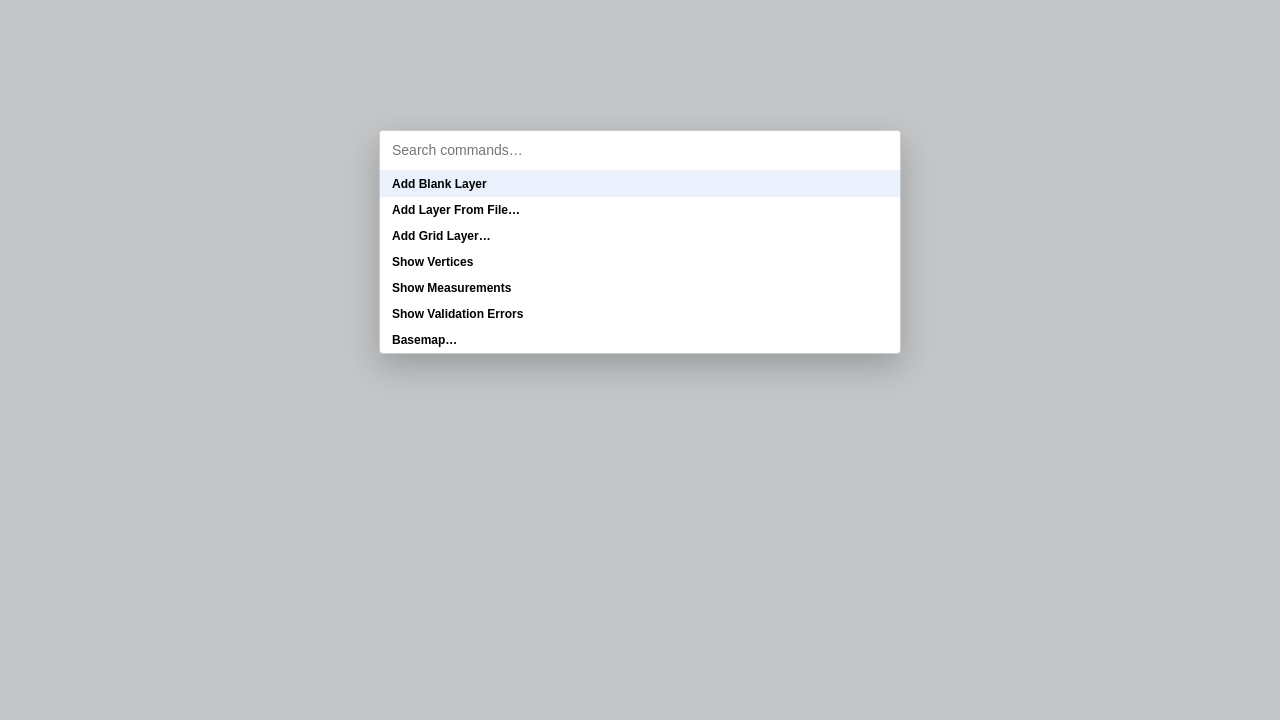
Test: the command palette › says why nothing matched rather than showing an empty box
Type "dissolve" into the dropdown labelled "Search commands" at (640, 151), box [380,131,900,171]
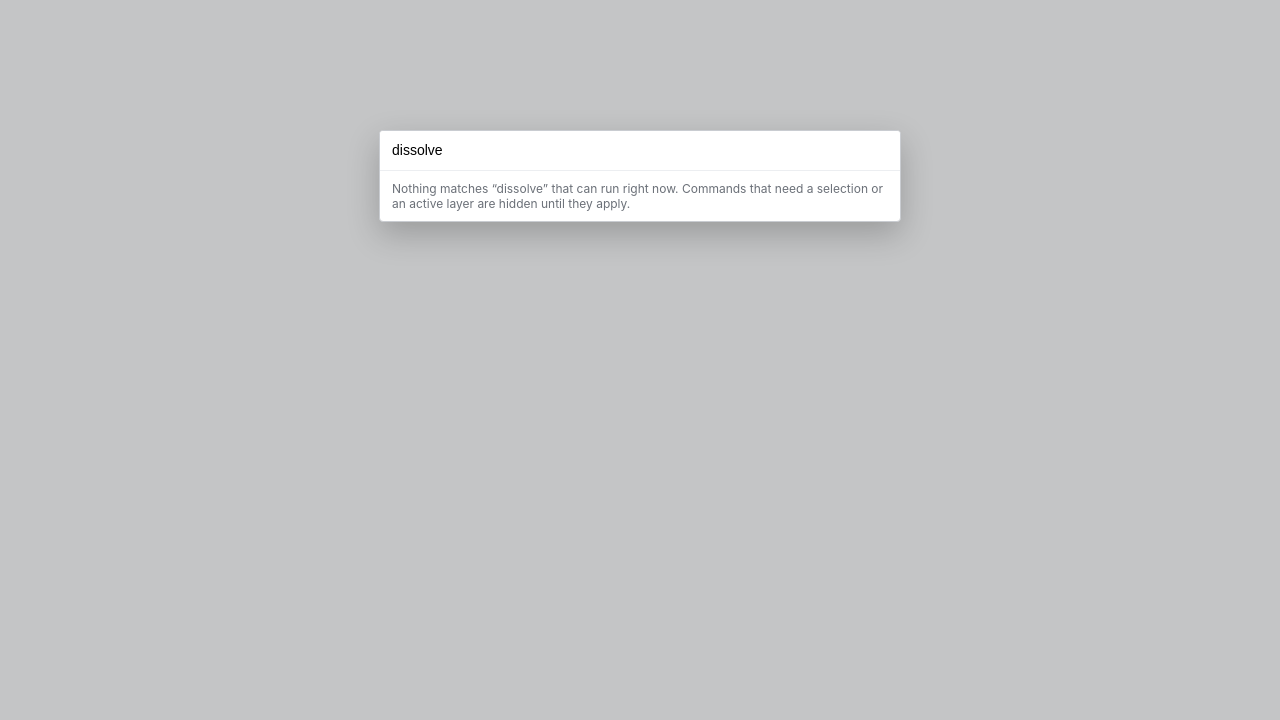
Expected: the text "need a selection or an active layer" is shown, [392,181,883,211]
